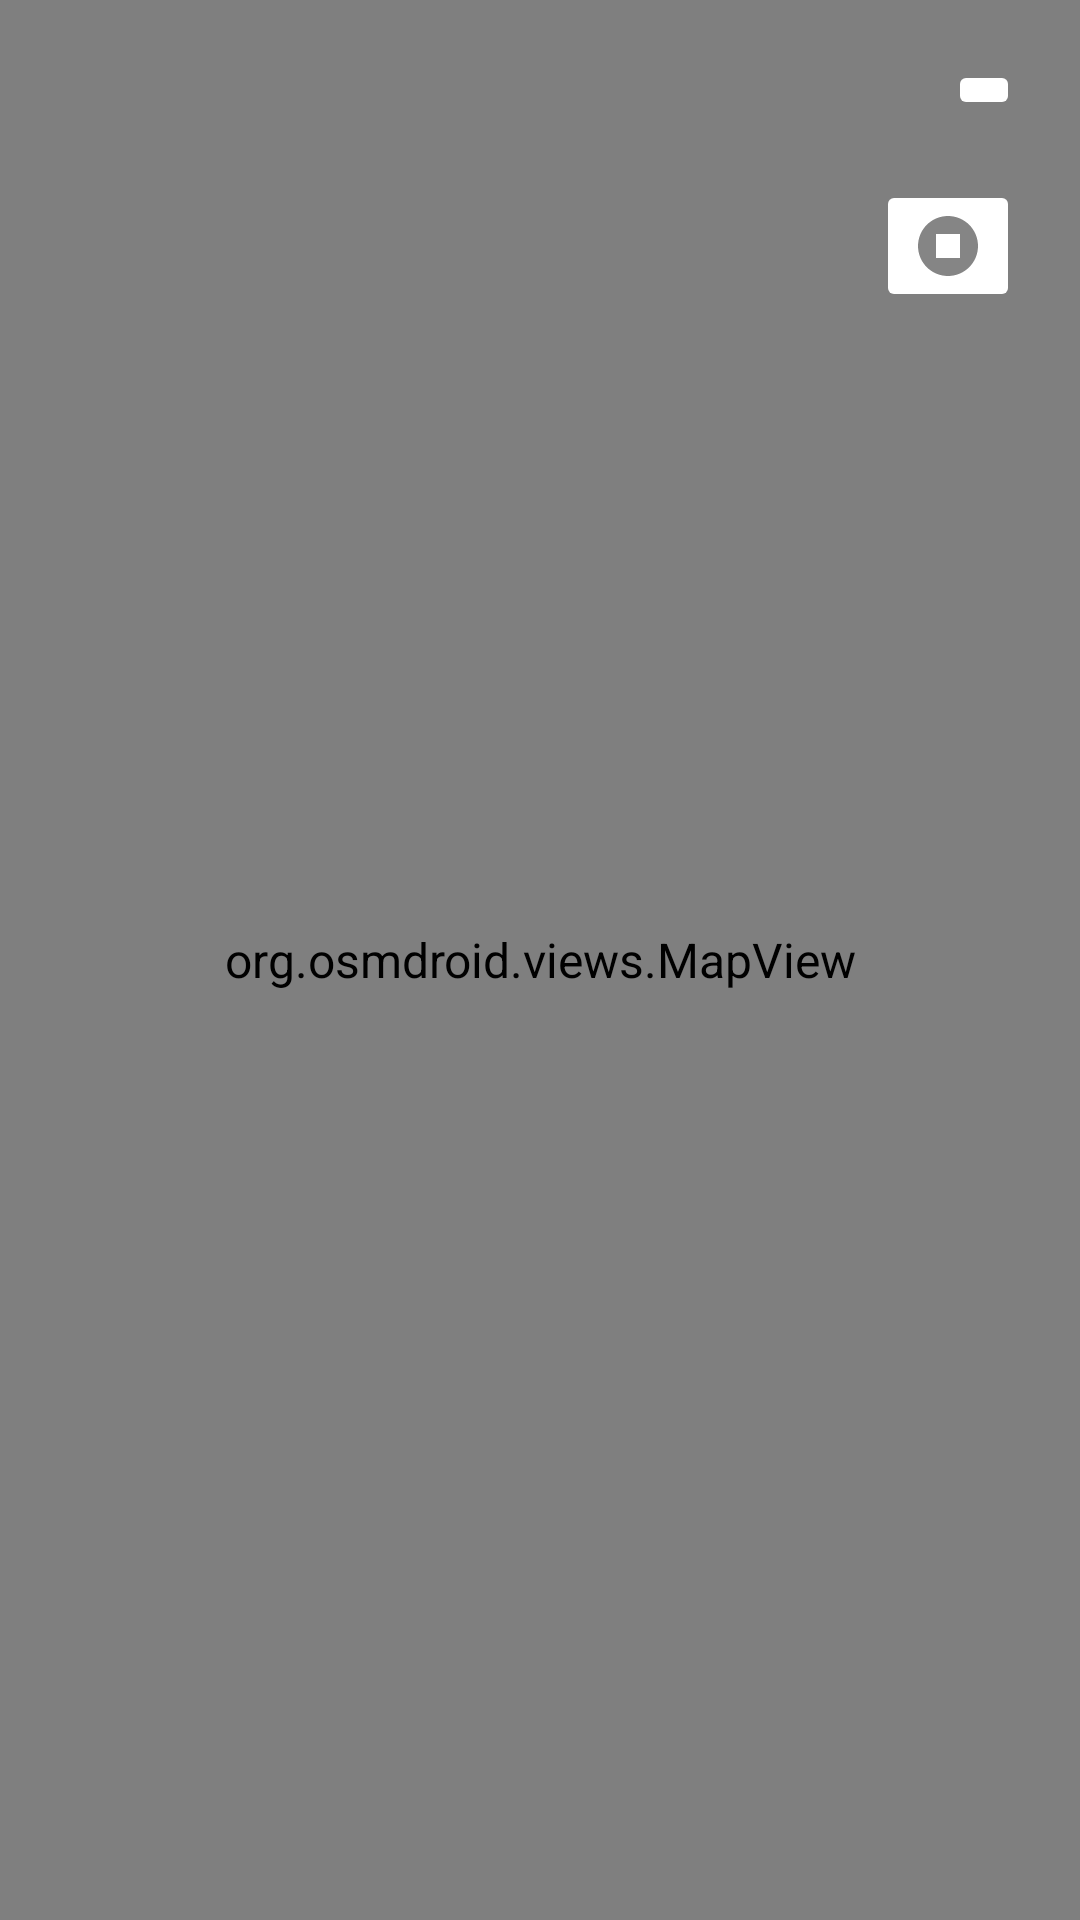

Screen size 1080*1920. Icon name, then its box in pixels as (x1, y1, x2, y2):
stop: (888, 198, 1008, 294)
